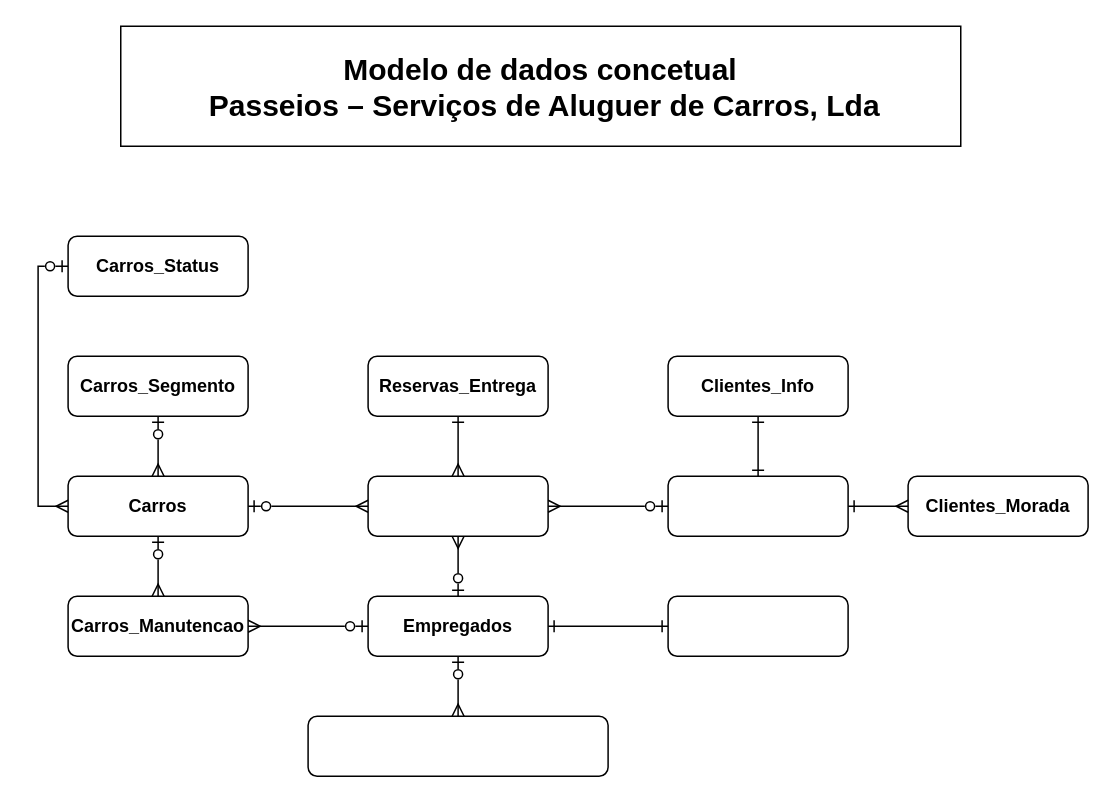
This 1115x803 diagram has some shape labels left out. The shapes that lost their labels are listed below. From the top down, each one's centre as x and y in pixels, then its label:
point (457, 505): Reservas
point (757, 505): Clientes
point (757, 625): Empregados_Info
point (457, 745): Empregados_Departamento
